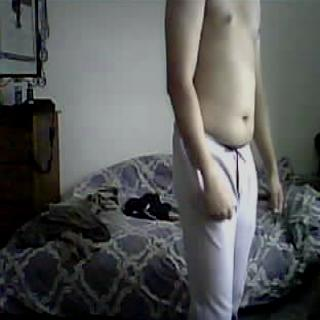White Sweatpants: (171, 119, 265, 320)
